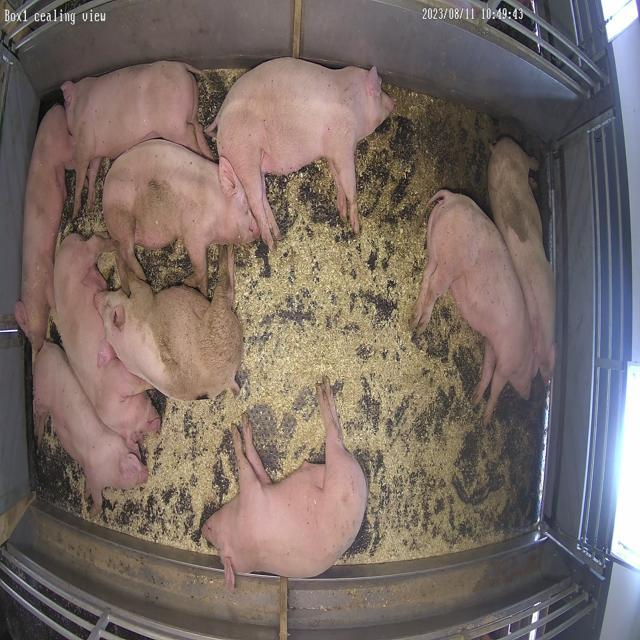Dirt: (378, 94, 495, 204), (480, 379, 547, 544)
Pig: (210, 57, 395, 248), (203, 380, 368, 592), (412, 189, 536, 424), (103, 139, 259, 294), (61, 60, 212, 216), (53, 234, 160, 450), (96, 248, 243, 400), (33, 343, 148, 512), (489, 137, 556, 380), (15, 104, 73, 356)
